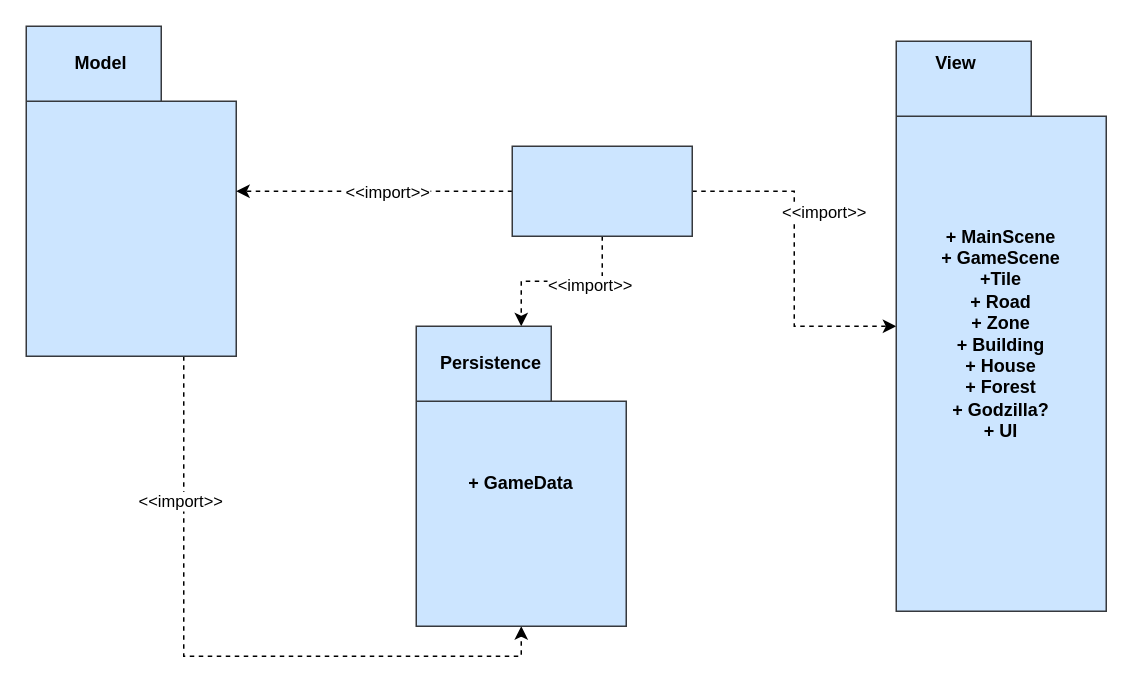
The diagram is 1133 pixels wide and 695 high, and some of its shapes have lost their labels. Here are the shapes that lost their labels. From the top down, the box of each, then its label:
(25, 25, 236, 356): + GameModel + GameConfig + CityLogic + CityEvents + PlayerAction
(511, 145, 692, 236): Application
